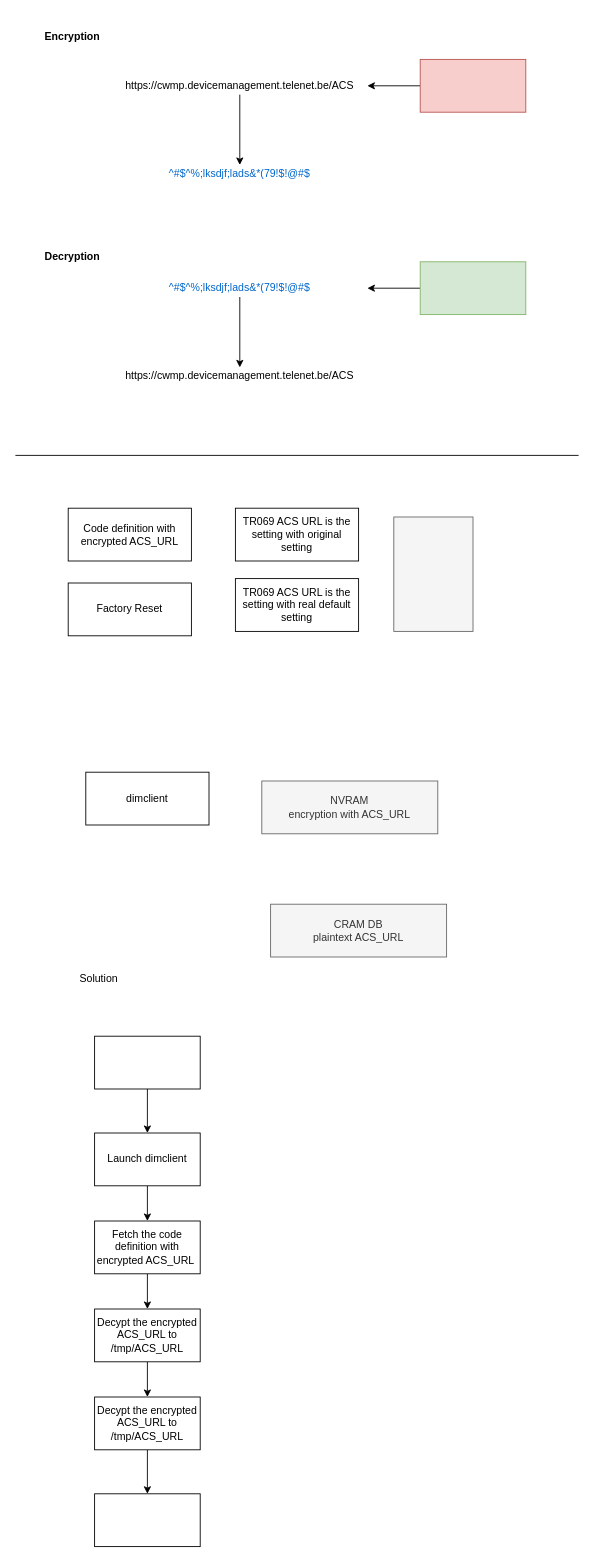
Image size: 595x1562. Some labels were removed from this diagram. The box of each missing label's shape, as (x1, y1, x2, y2) in pixels:
NVRAM ACS_URL: (393, 516, 473, 631)
Private Key: (419, 59, 526, 112)
Public Key: (419, 261, 526, 315)
System bootup: (94, 1035, 200, 1089)
Update the ACS URL by using the utility named cbn_tr69_tool -s xxx: (94, 1493, 200, 1547)
